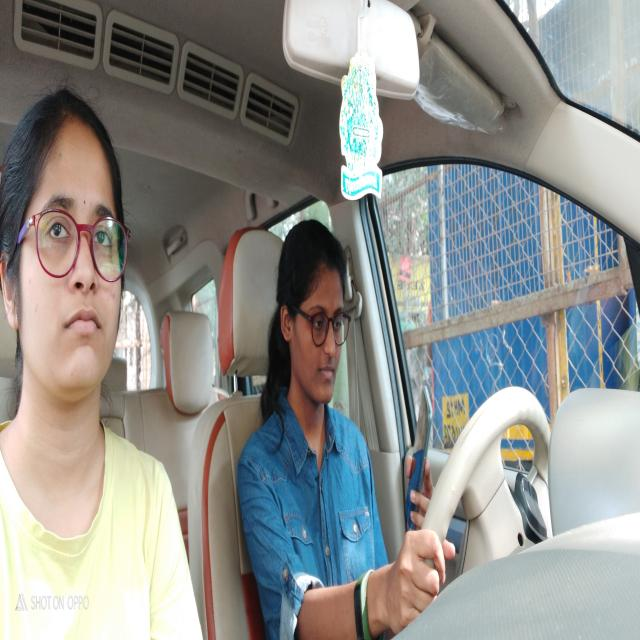mobile: (409, 388, 433, 526)
person: (1, 86, 128, 400), (272, 214, 356, 409)
